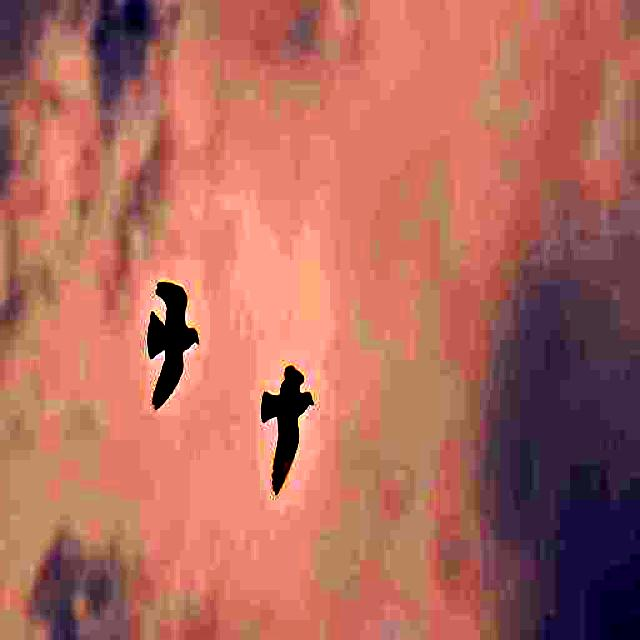airplane: (246, 348, 329, 516), (128, 246, 200, 416)
